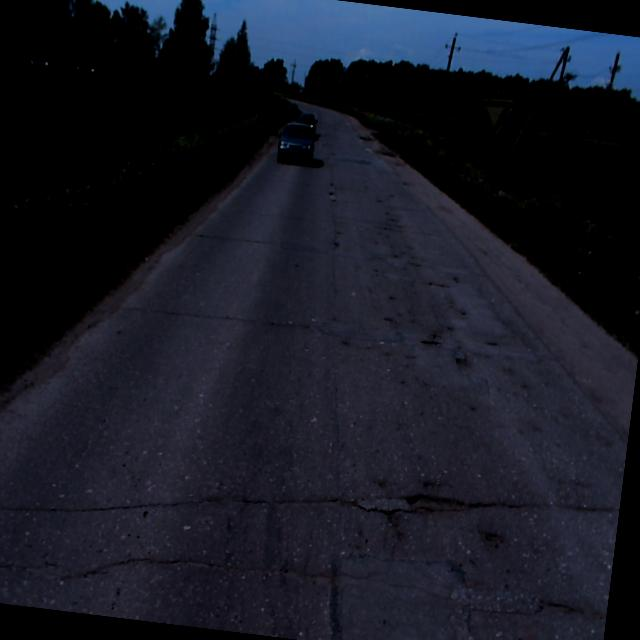road: (0, 108, 627, 640)
